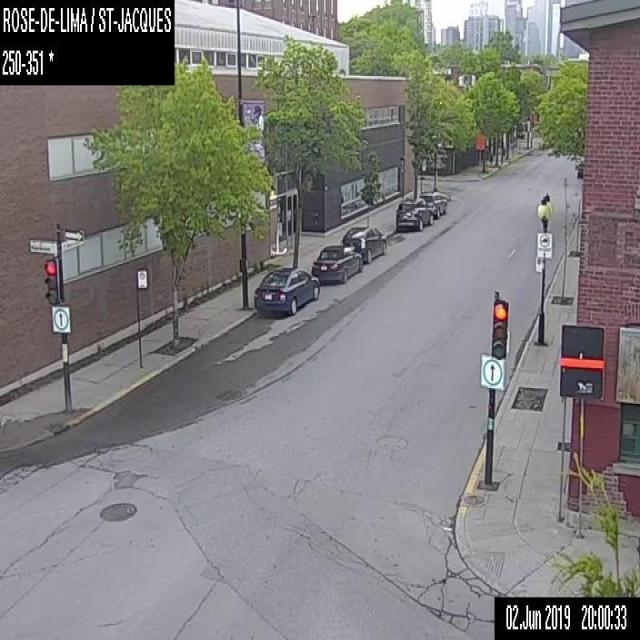vehicle: (252, 264, 320, 314), (311, 242, 362, 281), (340, 227, 388, 261), (394, 196, 432, 231), (418, 190, 449, 217)
